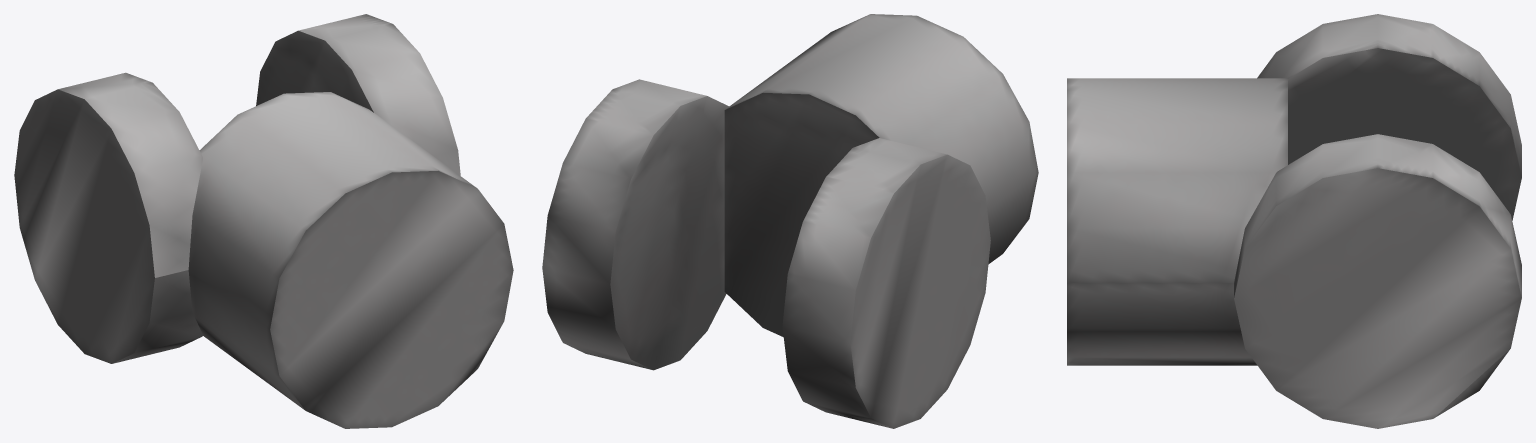
The model's file is r_hand.dae.
3 renders of one model, left to right at view 1: azimuth 30°, elevation 25°; view 2: azimuth 150°, elevation 25°; view 3: azimuth 270°, elevation 25°, orthographic. The views are drawn at different scales.
Visible parts, largest first — view 1: p38446_1, p38386_1, p38326_1; view 2: p38446_1, p38386_1, p38326_1; view 3: p38326_1, p38446_1, p38386_1.
Part boxes in pixels (left/top/right/bottom): p38446_1: left=188, top=92, right=513, bottom=428; p38386_1: left=14, top=72, right=202, bottom=363; p38326_1: left=256, top=14, right=460, bottom=175; p38446_1: left=724, top=14, right=1038, bottom=336; p38386_1: left=782, top=138, right=990, bottom=428; p38326_1: left=542, top=79, right=729, bottom=370; p38326_1: left=1234, top=134, right=1521, bottom=428; p38446_1: left=1067, top=78, right=1287, bottom=365; p38386_1: left=1257, top=14, right=1521, bottom=220.
Size of the model in its own units: 0.0911 by 0.1135 by 0.0719.
